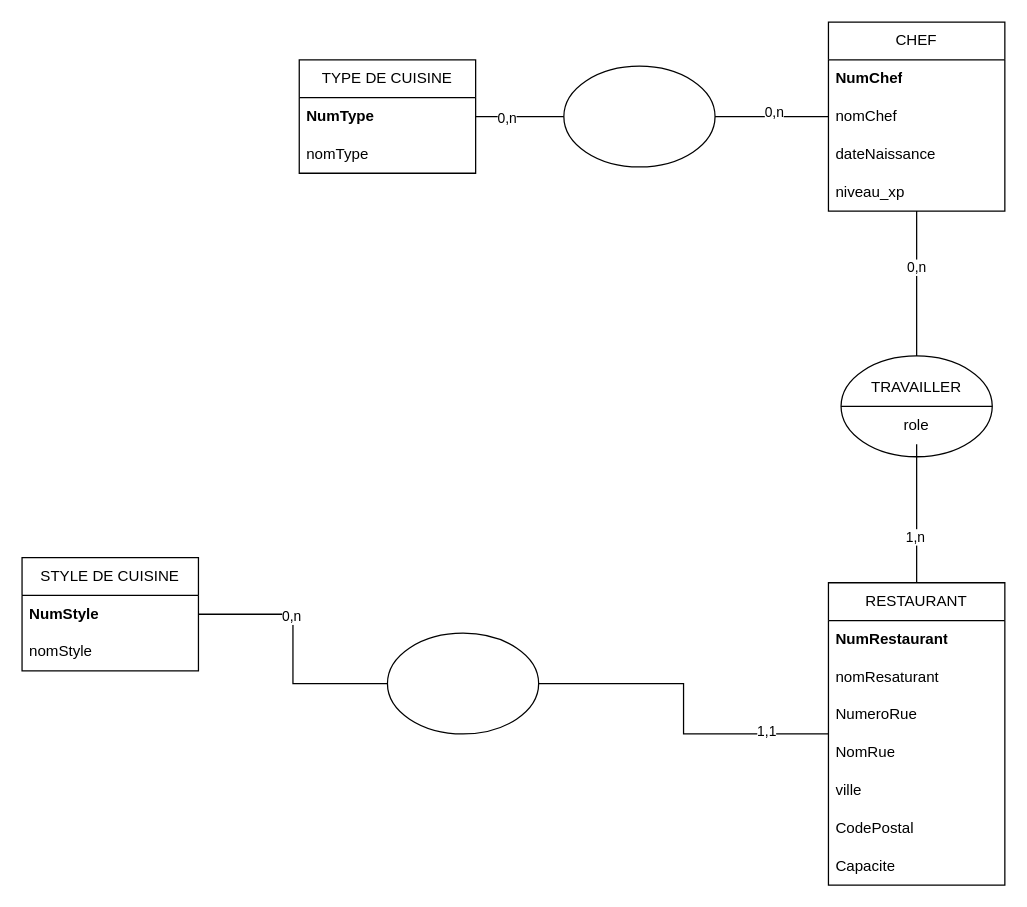
This 1027x907 diagram has some shape labels left out. The shapes that lost their labels are listed below. From the top down, each one's centre as x and y in pixels, then its label:
At point 639,116: "AVOIR".
At point 462,683: "APPARTIENT".
